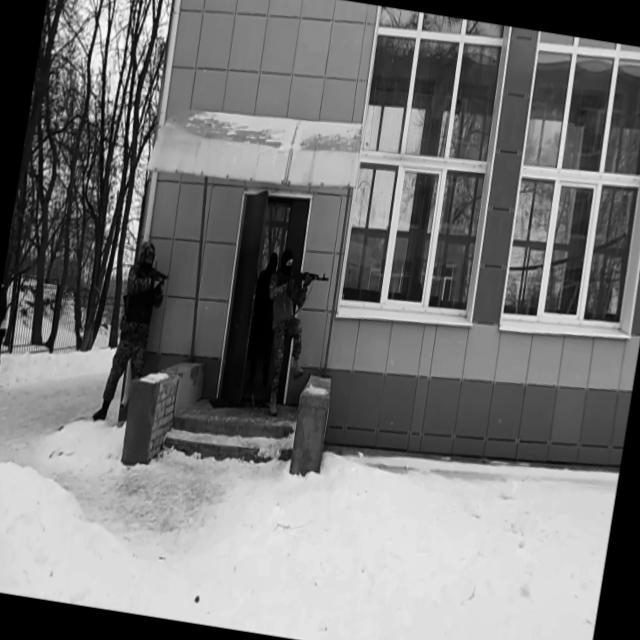gun: (274, 264, 332, 302), (136, 260, 170, 290)
person: (243, 252, 288, 386), (0, 275, 16, 397)
person with a gun: (91, 235, 176, 430), (249, 246, 334, 421)
